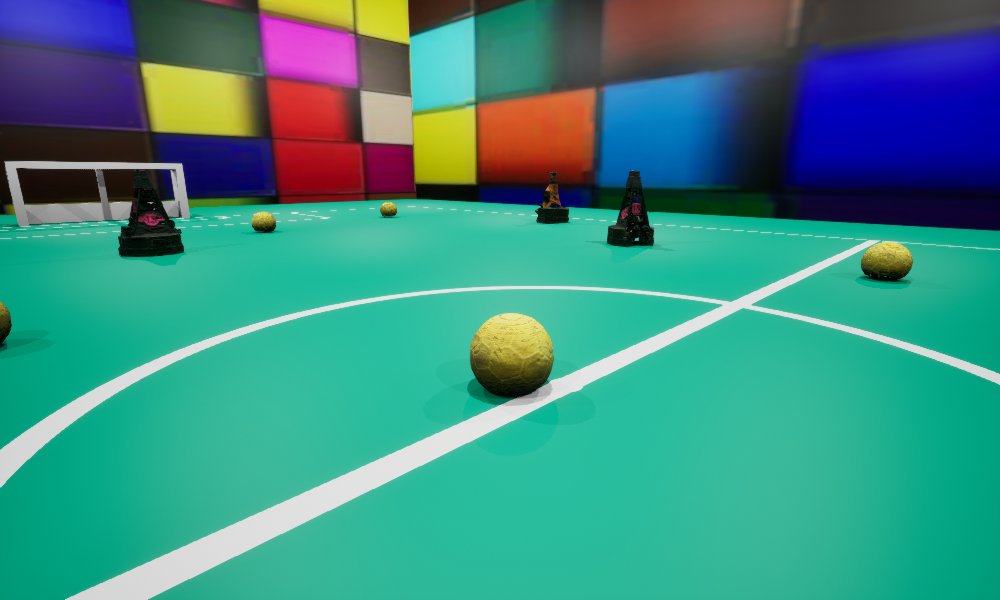b: (470, 313, 553, 395), (861, 242, 912, 280), (0, 301, 11, 343), (252, 211, 275, 230), (380, 202, 396, 216)
o: (535, 172, 568, 223)
p1: (118, 170, 183, 256), (607, 170, 653, 246)
